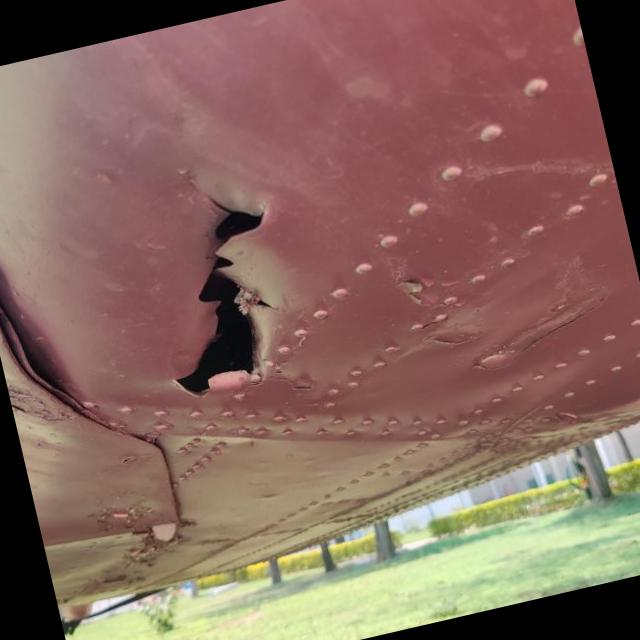Crack: (177, 257, 255, 393), (214, 211, 261, 242)
Paint-off: (397, 277, 461, 332)
